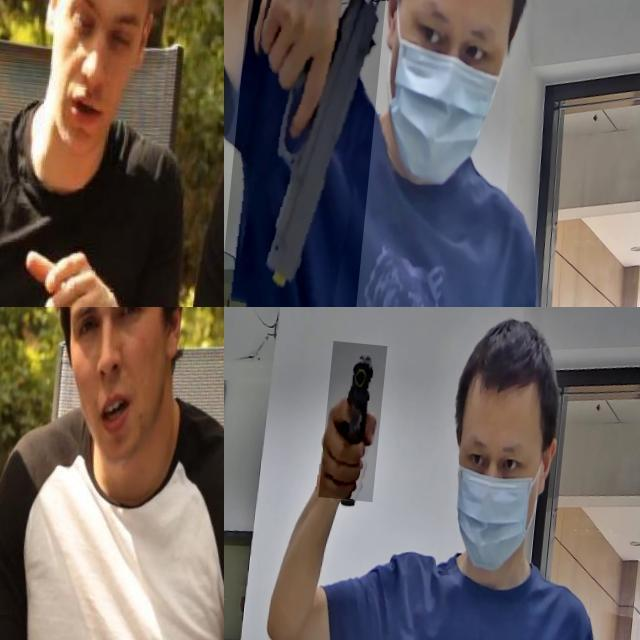gun-knife-thesis - v11 Yolov5 augmented: (230, 0, 393, 307), (328, 336, 393, 496)
